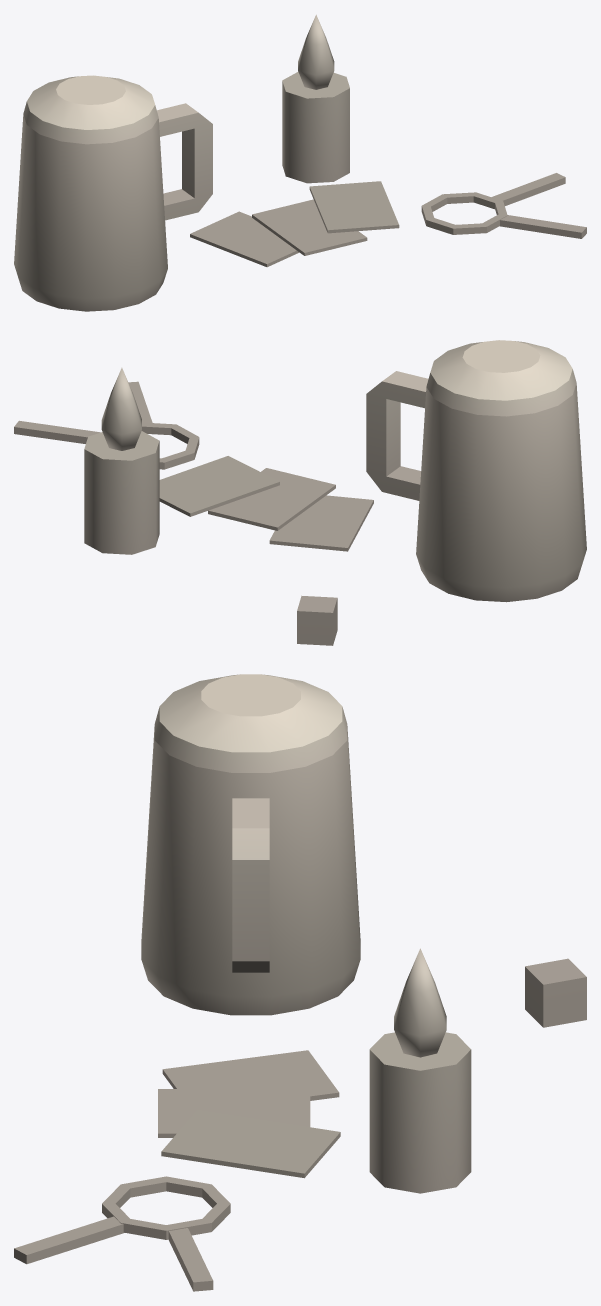
Rendered from SM_VKI_Prop_TableDress_Guard.fbx.
The picture shows the model from 3 angles, top to bottom: view 1: azimuth 30°, elevation 25°; view 2: azimuth 150°, elevation 25°; view 3: azimuth 270°, elevation 25°; orthographic projection. The views are drawn at different scales.
Parts seen in each view (by area): view 1: SM_VKI_Prop_TableDress_Guard.001; view 2: SM_VKI_Prop_TableDress_Guard.001; view 3: SM_VKI_Prop_TableDress_Guard.001.
Boxes of the visible parts, <box> form: SM_VKI_Prop_TableDress_Guard.001: <box>14,14,586,311</box>; SM_VKI_Prop_TableDress_Guard.001: <box>14,340,586,645</box>; SM_VKI_Prop_TableDress_Guard.001: <box>14,674,586,1291</box>.
Size of the model in its own units: 0.5137 by 0.18 by 0.3383.
